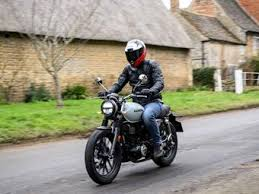motorcycle: (82, 78, 184, 186)
